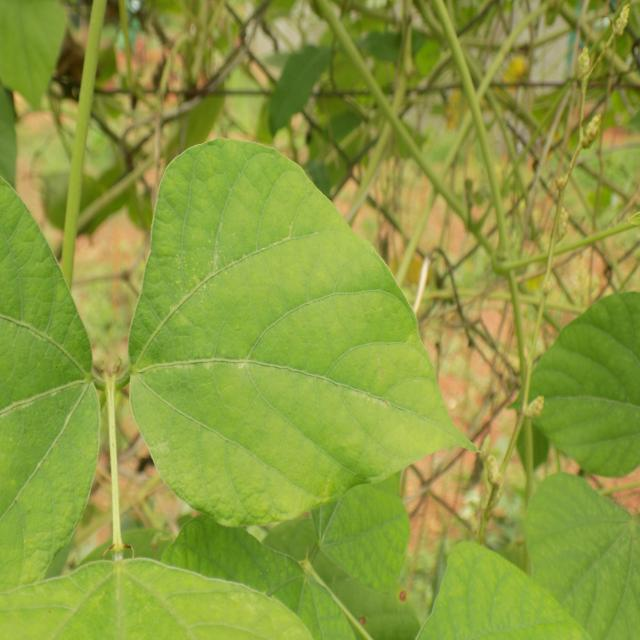Dolicos bean_healthy: (122, 136, 480, 526)
